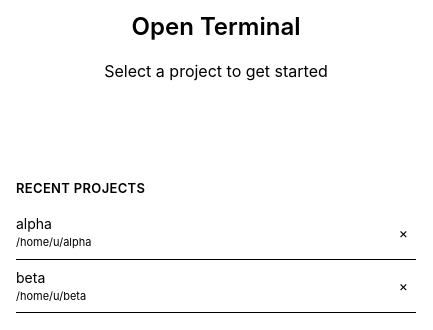
Test case: WelcomeScreen › removes a recent project and drops it from the list
Expected: the text "alpha" is shown, 16,214 -> 52,234
The × button sits next to each project's open button.
Click the 1st button "×": [403, 232] box 391,218 -> 416,246
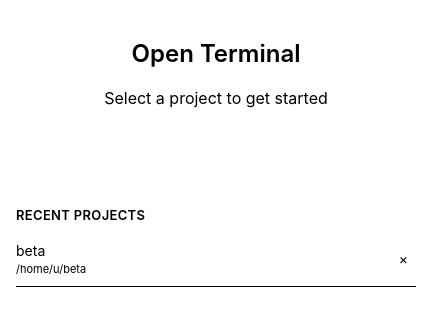
Expected: the text "beta" is shown, 16,241 -> 45,261
Expected: the button "alpha" is gone
